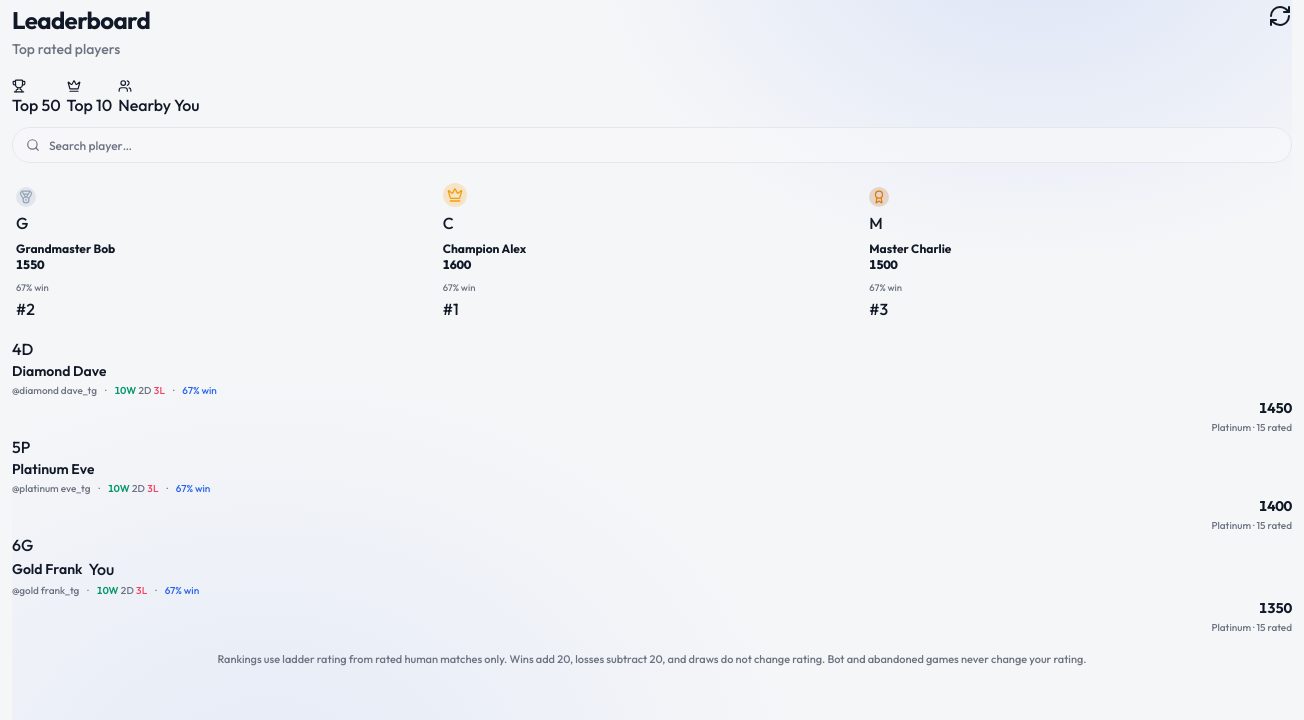
Test: LeaderboardScreen › filters leaderboard rows with search query input
The width and height of the screenshot is (1304, 720).
Expected: the text "Champion Alex" is shown, top-left (443, 241), bottom-right (526, 256)
Step 1. Type "Dave" into the field labelled "Search player…" → (652, 145), box top-left (12, 127), bottom-right (1292, 163)
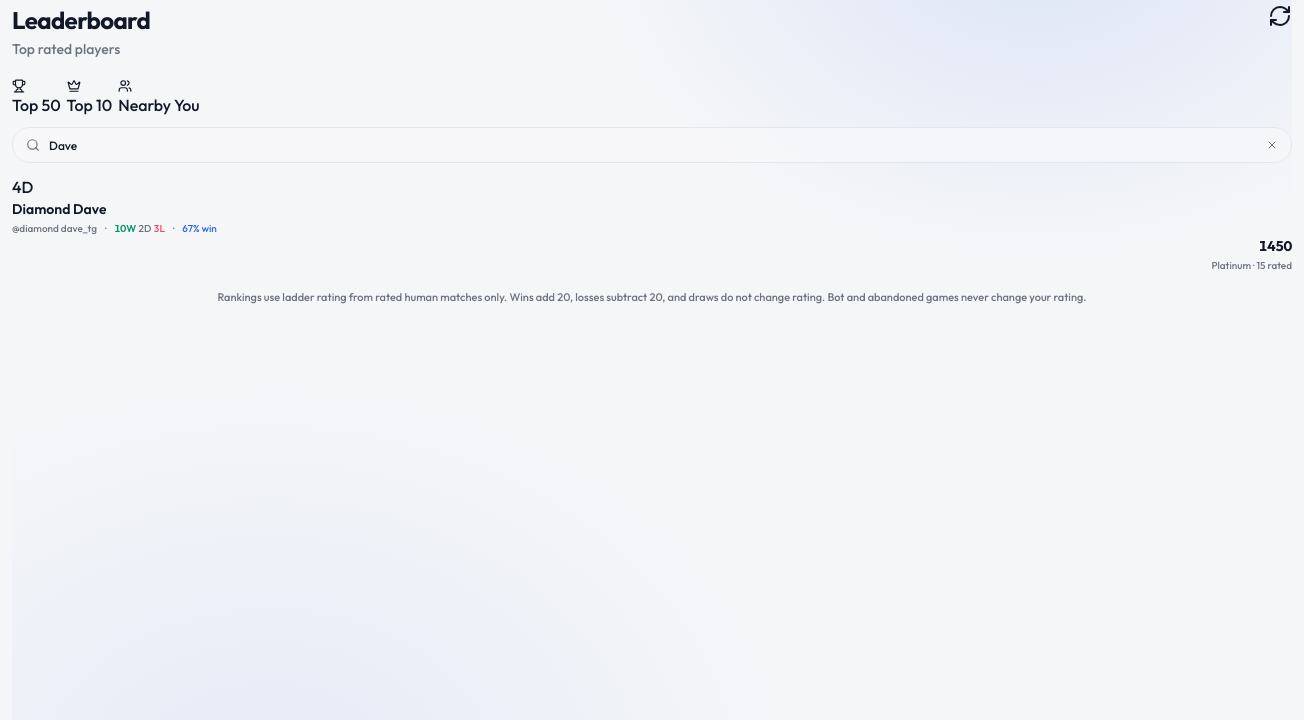
Expected: the text "Diamond Dave" is shown, top-left (12, 199), bottom-right (106, 219)
Expected: the text "Platinum Eve" is gone
Note: Clear search
Step 2. Click the button named "clear search" → (1272, 145), box top-left (1262, 135), bottom-right (1282, 155)
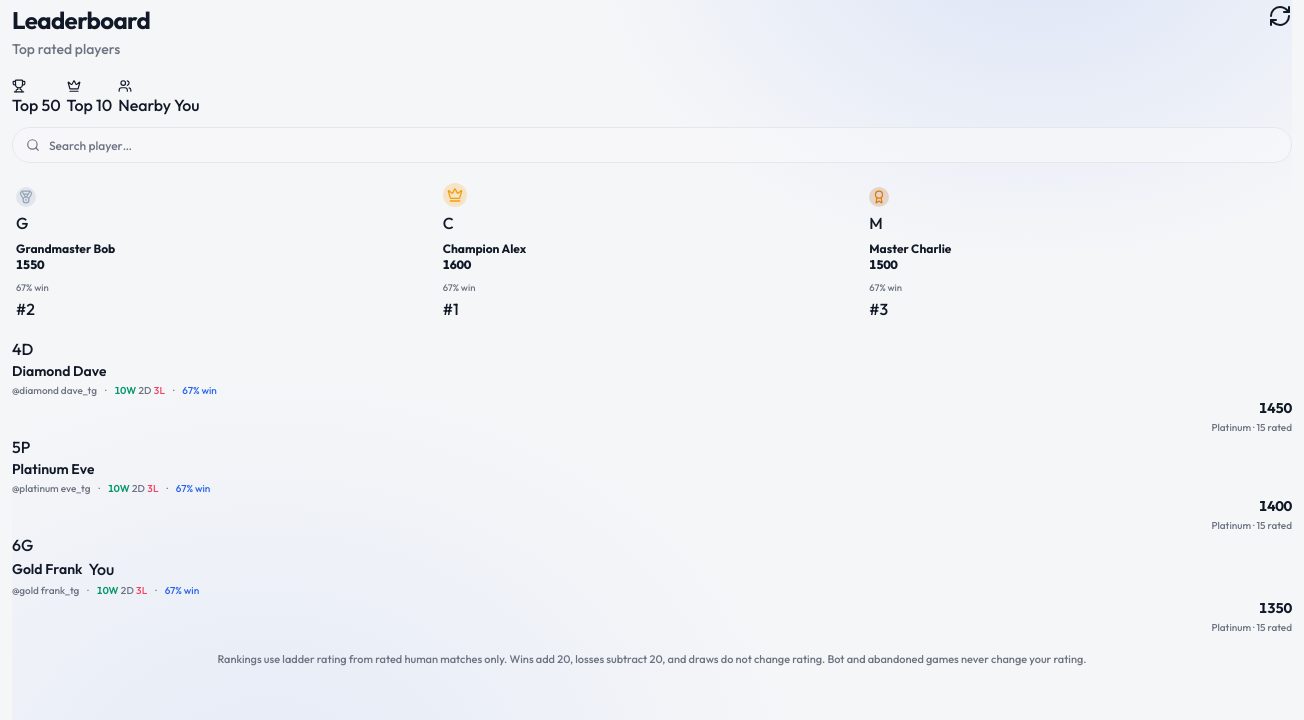
Expected: the text "Champion Alex" is shown, top-left (443, 241), bottom-right (526, 256)
